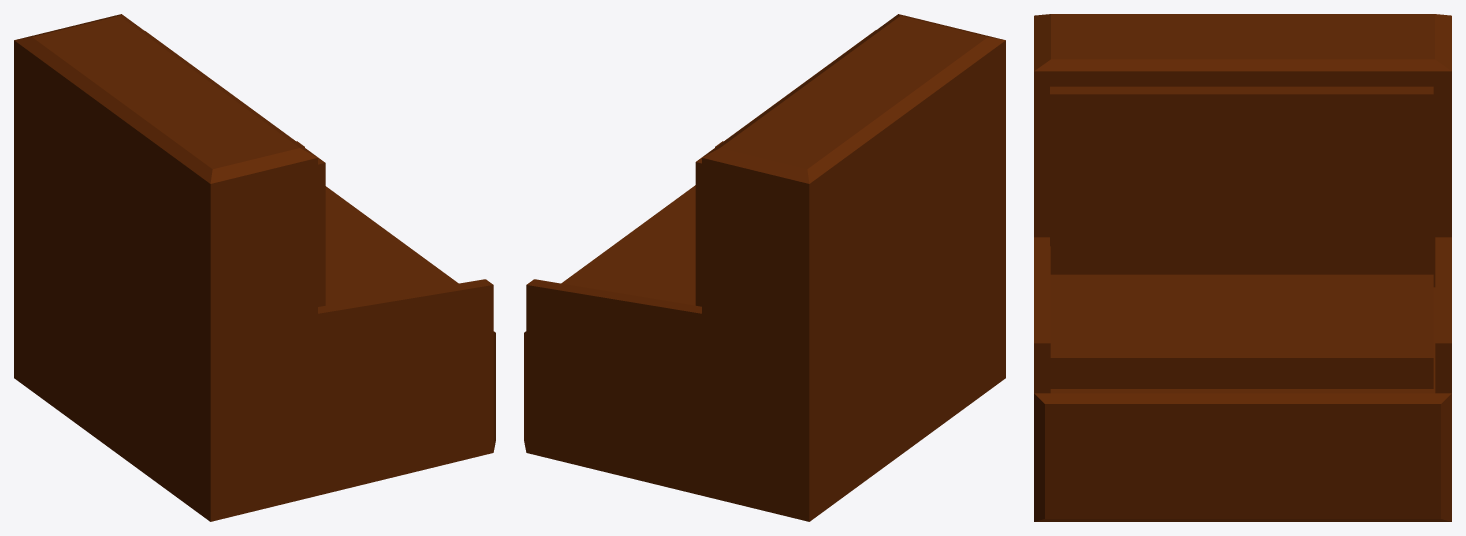
The model's file is armchair.fbx.
3 renders of one model, left to right at view 1: azimuth 30°, elevation 25°; view 2: azimuth 150°, elevation 25°; view 3: azimuth 270°, elevation 25°, orthographic. The views are drawn at different scales.
Visible parts, largest first — view 1: Cube.001; view 2: Cube.001; view 3: Cube.001.
Boxes of the visible parts, x1,y1,x2,y2 form: Cube.001: (14, 14, 495, 521); Cube.001: (524, 14, 1005, 521); Cube.001: (1034, 14, 1451, 521).
Bounding box in the file's own units: 338 × 383 × 396.
